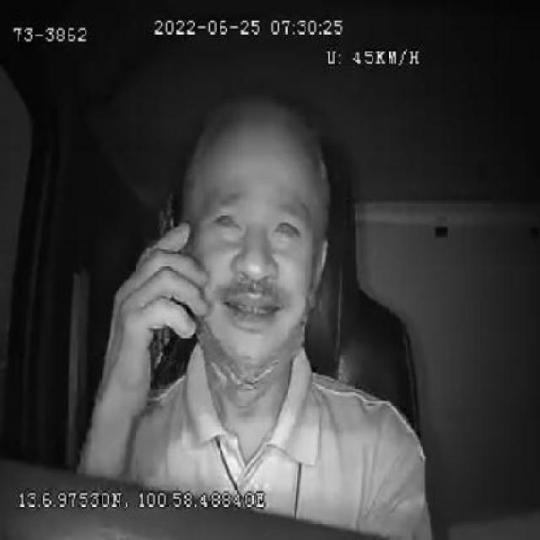phone: (145, 189, 191, 386)
